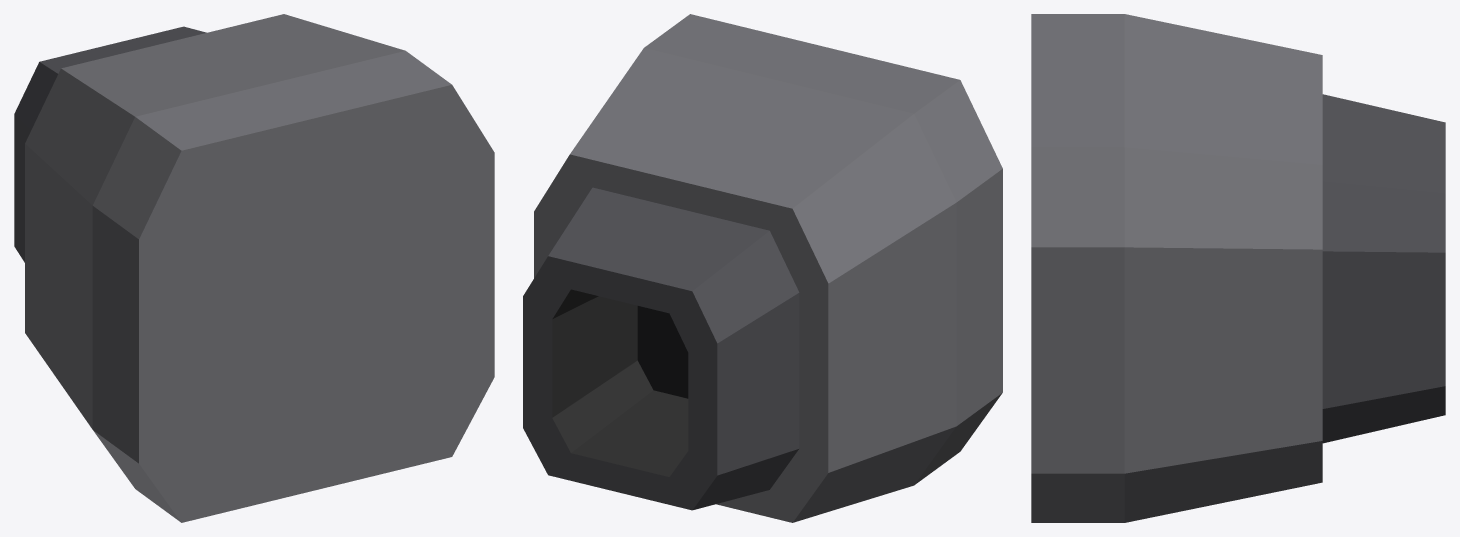
The model's file is model_engine_02.gltf.
3 views of the same model, side by side, from view 1: azimuth 30°, elevation 25°; view 2: azimuth 150°, elevation 25°; view 3: azimuth 270°, elevation 25° (orthographic).
Parts seen in each view (by area): view 1: model_engine_02; view 2: model_engine_02; view 3: model_engine_02.
Boxes of the visible parts, x1,y1,x2,y2 form: model_engine_02: (14, 14, 494, 522); model_engine_02: (523, 14, 1002, 522); model_engine_02: (1031, 14, 1445, 522).
Size of the model in its own units: 1 by 1 by 1.
1 material, 1 textured.
